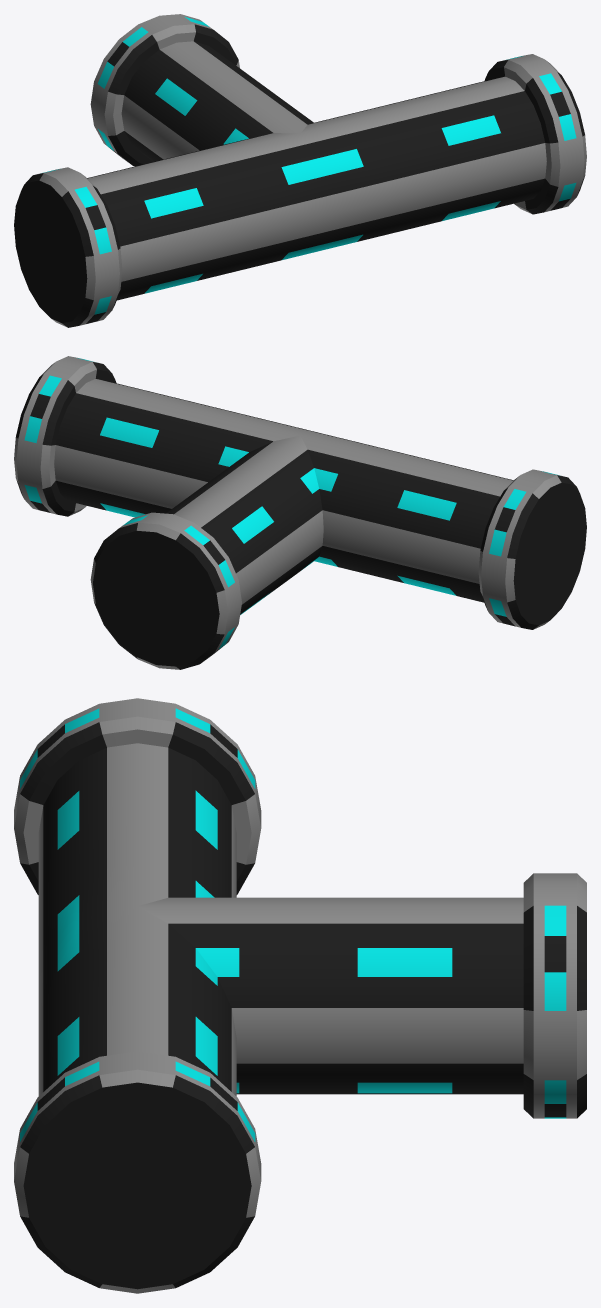
Rendered from pipe T intersection.fbx.
3 views of the same model, one above another, from view 1: azimuth 30°, elevation 25°; view 2: azimuth 150°, elevation 25°; view 3: azimuth 270°, elevation 25° (orthographic). The views are drawn at different scales.
Parts seen in each view (by area): view 1: polySurface1; view 2: polySurface1; view 3: polySurface1.
Part boxes in pixels (left/top/right/bottom): polySurface1: left=14, top=14, right=586, bottom=327; polySurface1: left=14, top=356, right=586, bottom=669; polySurface1: left=14, top=698, right=586, bottom=1293.
Bounding box in the file's own units: 41.72 × 11.48 × 26.6.
